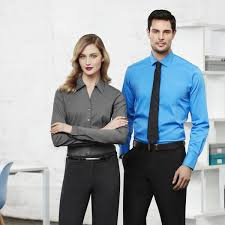F_W_pants: (55, 156, 122, 225)
F_belt: (131, 137, 188, 156)
F_dress pants: (125, 142, 188, 225)
F_shirt: (122, 48, 214, 168), (48, 73, 131, 156)
F_tie: (149, 61, 160, 148)
